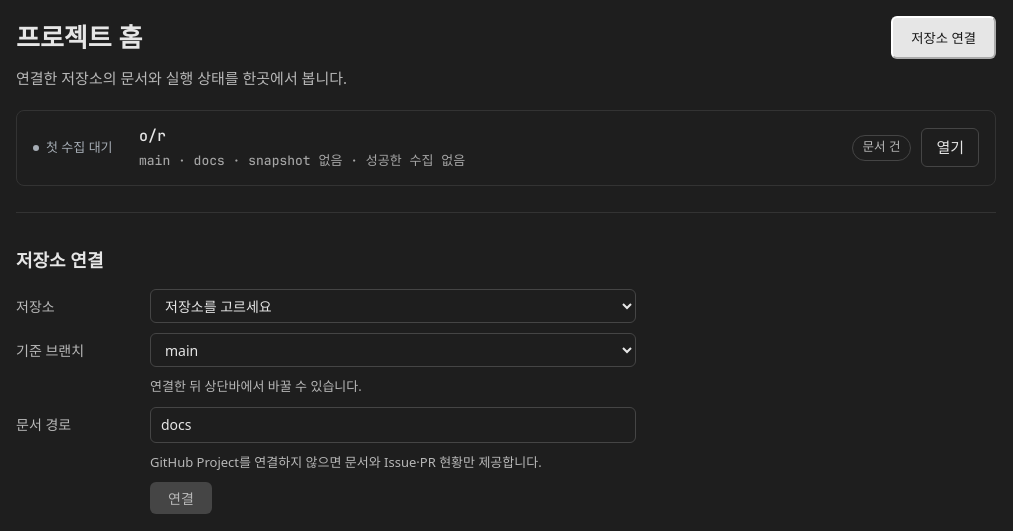
Test case: UI-001 프로젝트 홈 › treats a duplicate connection as already connected, not as an error
Select "o/r" in the dropdown labelled "저장소": x=393, y=306 [150, 289, 636, 323]
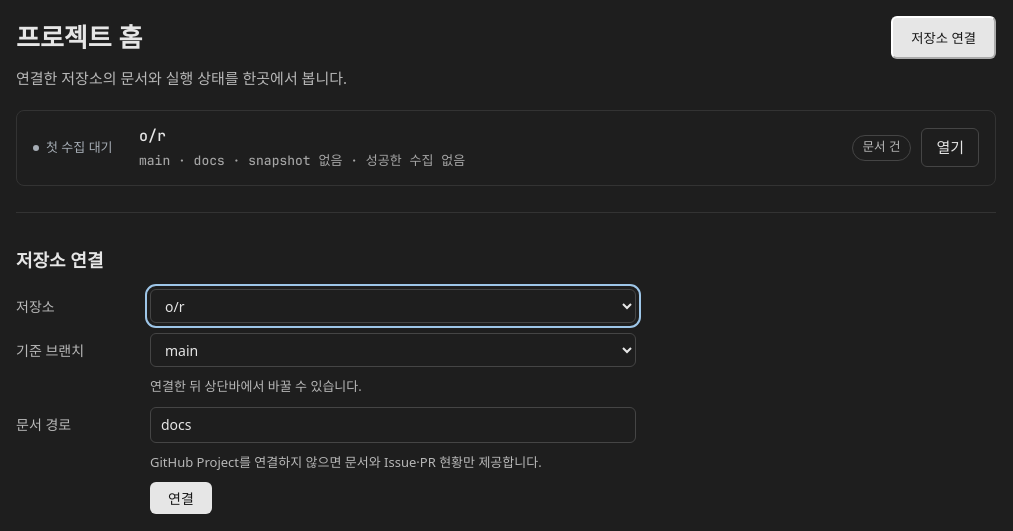
Click the button "연결": x=181, y=498 [150, 482, 212, 514]
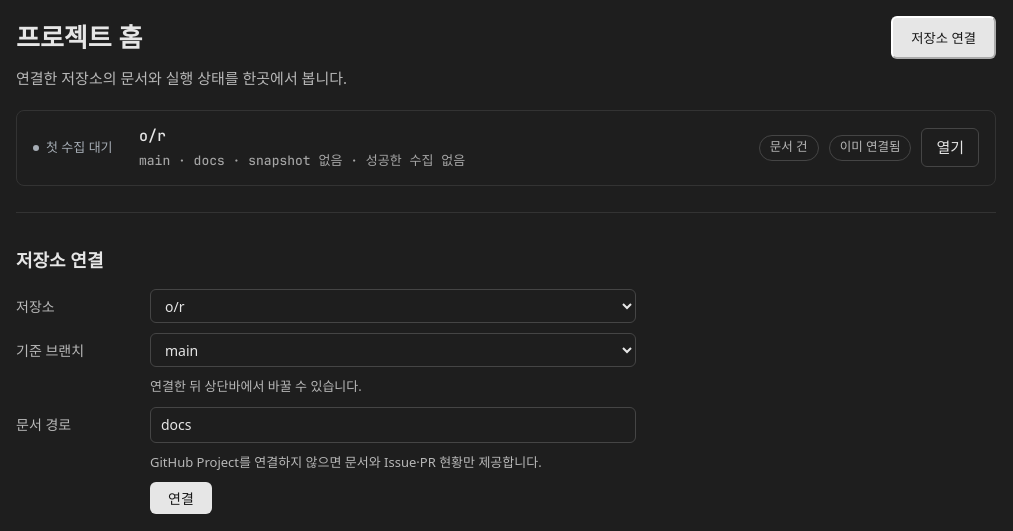
Expected: the text "이미 연결됨" is shown, [829, 134, 911, 160]
